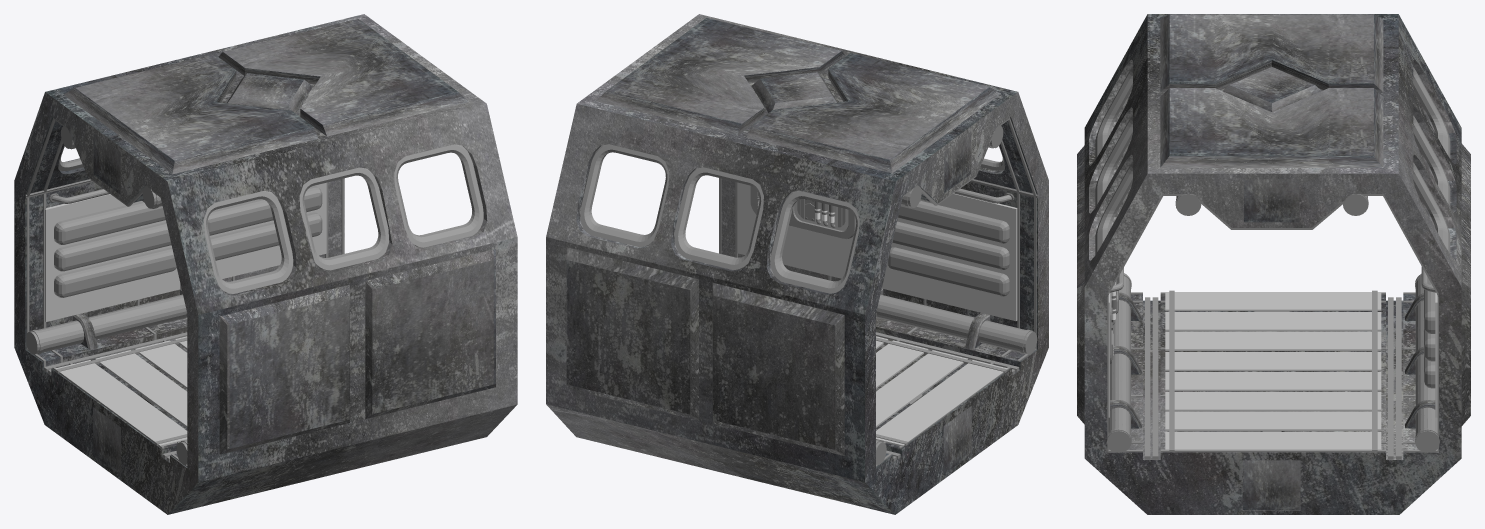
The model's file is Corridor.gltf.
3 renders of one model, left to right at view 1: azimuth 30°, elevation 25°; view 2: azimuth 150°, elevation 25°; view 3: azimuth 270°, elevation 25°, orthographic. The views are drawn at different scales.
Bounding box in the file's own units: 0.0296 × 0.0304 × 0.0309.
